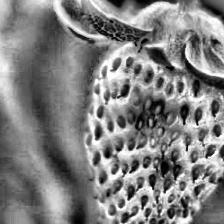Anthracnose Fruit Rot: (122, 86, 188, 152)
